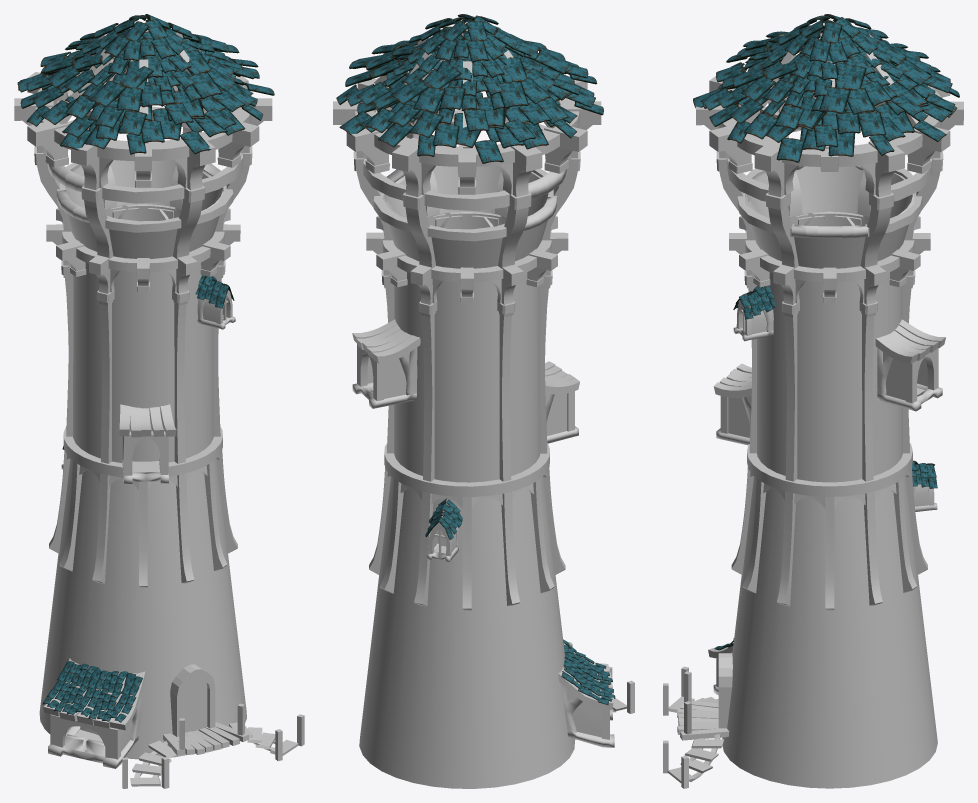
Rendered from Lighthouse v2.fbx.
3 views of the same model, side by side, from view 1: azimuth 30°, elevation 25°; view 2: azimuth 150°, elevation 25°; view 3: azimuth 270°, elevation 25° (orthographic). The views are drawn at different scales.
Visible parts, largest first — view 1: Cylinder, Cylinder.002, Cube.001, Plank_2, Cube.002, Plank_2.001, Cylinder.003, Cube.006, Plank_2.030, Door, Plank_2.003, Plank_2.002 (+26 smaller); view 2: Cylinder, Cylinder.002, Cube.001, Plank_2, Cube.002, Plank_2.001, Cylinder.003, Cube.005, Cylinder.001, Plank_2.003, Plank_2.002, Cube.006 (+26 smaller); view 3: Cylinder, Cylinder.002, Cube.001, Plank_2, Cube.002, Cylinder.003, Plank_2.001, Cube.005, Cylinder.001, Plank_2.030, Plank_2.002, Rooftile1.051 (+30 smaller).
Part boxes in pixels (x1,y1,x2,y2): Cylinder: (39, 458, 246, 759); Cylinder.002: (73, 206, 213, 463); Cube.001: (14, 67, 272, 258); Plank_2: (49, 450, 237, 587); Cube.002: (46, 204, 240, 305); Plank_2.001: (65, 278, 221, 463); Cylinder.003: (65, 160, 223, 258); Cube.006: (48, 694, 142, 768); Plank_2.030: (122, 703, 304, 788); Door: (170, 664, 215, 736); Plank_2.003: (47, 106, 243, 203); Plank_2.002: (56, 163, 233, 232); Cylinder: (359, 476, 574, 788); Cylinder.002: (394, 213, 540, 482); Cube.001: (333, 69, 601, 268); Plank_2: (369, 467, 565, 610); Cube.002: (366, 211, 568, 317); Plank_2.001: (385, 288, 548, 481); Cylinder.003: (383, 165, 548, 268); Cube.005: (352, 344, 417, 408); Cylinder.001: (384, 442, 549, 496); Plank_2.003: (363, 109, 566, 210); Plank_2.002: (373, 168, 557, 241); Cube.006: (561, 684, 614, 747); Cylinder: (722, 476, 937, 788); Cylinder.002: (757, 213, 902, 482); Cube.001: (696, 74, 963, 268); Plank_2: (731, 466, 927, 610); Cube.002: (729, 206, 930, 317); Cylinder.003: (745, 166, 914, 268); Plank_2.001: (748, 288, 911, 481); Cube.005: (877, 347, 942, 411); Cylinder.001: (747, 443, 912, 496); Plank_2.030: (663, 666, 723, 788); Plank_2.002: (737, 166, 922, 238); Rooftile1.051: (732, 29, 931, 113).
Size of the model in its own units: 1022 by 2969 by 1117.
